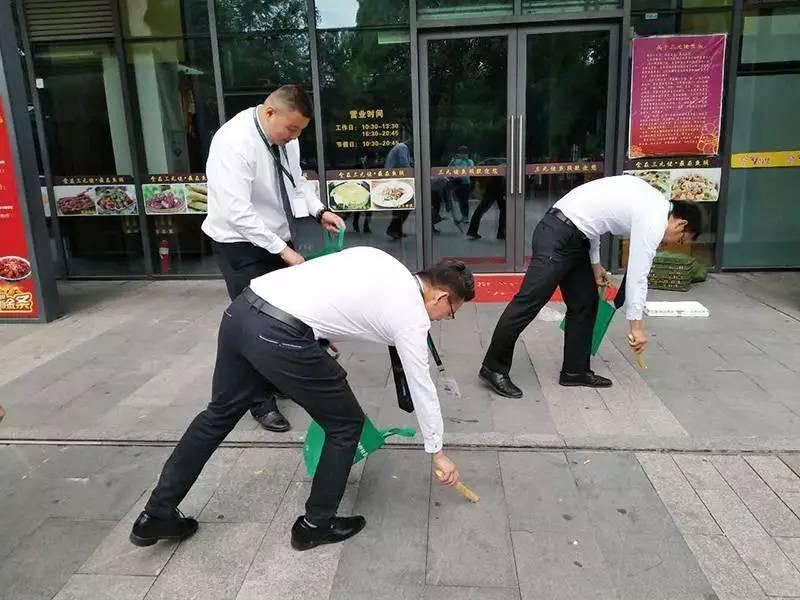bending: (126, 243, 483, 559), (503, 177, 707, 398)
up: (186, 75, 321, 302)
